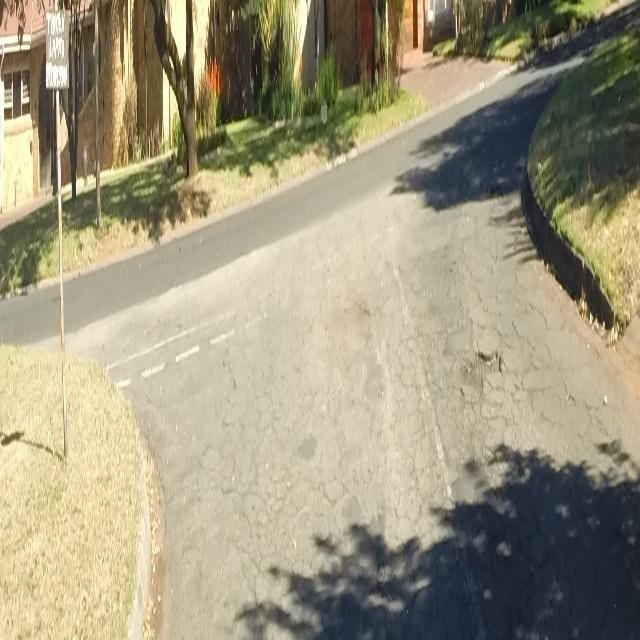pothole: (472, 342, 502, 378)
